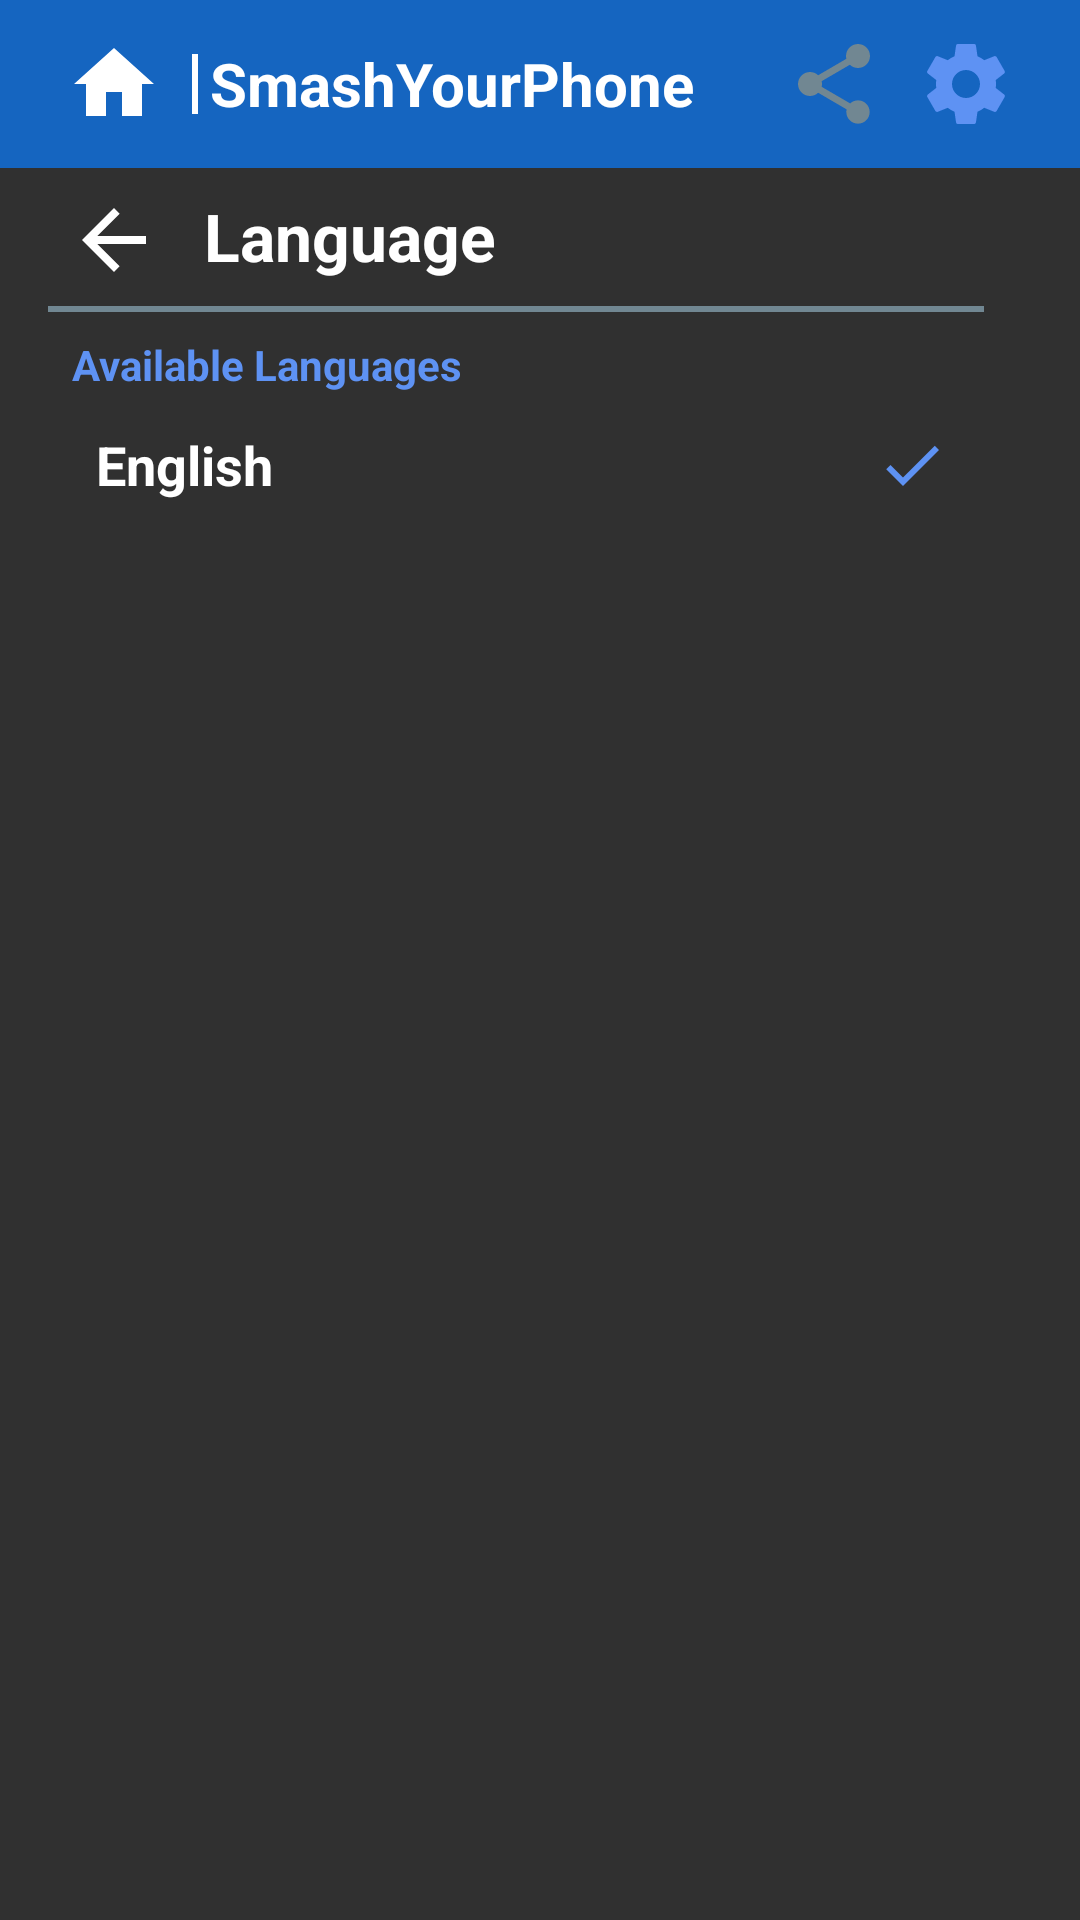

Named icons in this screenshot (1080 × 1920) and their centers, point (x, y):
Back Arrow: point (114, 240)
